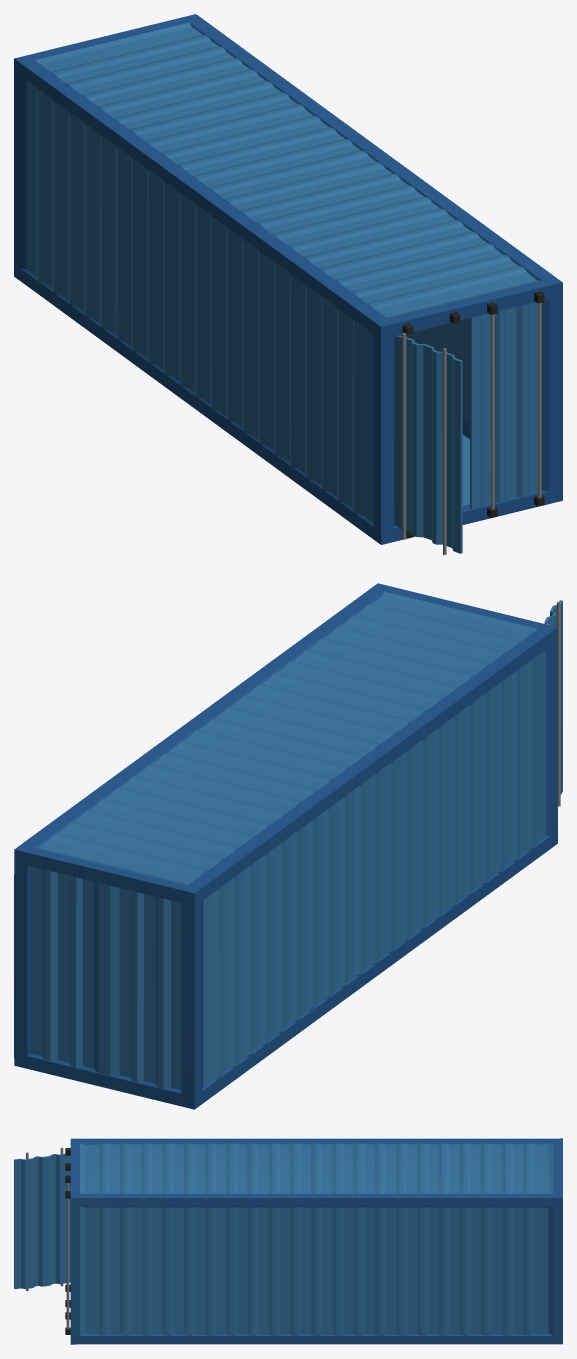
The model's file is Large Blue Shipping Conainer Open.fbx.
3 renders of one model, top to bottom at view 1: azimuth 30°, elevation 25°; view 2: azimuth 150°, elevation 25°; view 3: azimuth 270°, elevation 25°, orthographic. The views are drawn at different scales.
Parts seen in each view (by area): view 1: Large Blue Shipping Container Open; view 2: Large Blue Shipping Container Open; view 3: Large Blue Shipping Container Open.
Part boxes in pixels (left/top/right/bottom): Large Blue Shipping Container Open: left=14, top=14, right=562, bottom=554; Large Blue Shipping Container Open: left=14, top=583, right=562, bottom=1109; Large Blue Shipping Container Open: left=14, top=1138, right=562, bottom=1344.
Bounding box in the file's own units: 1062 × 3609 × 928.
1 material, 1 textured.
